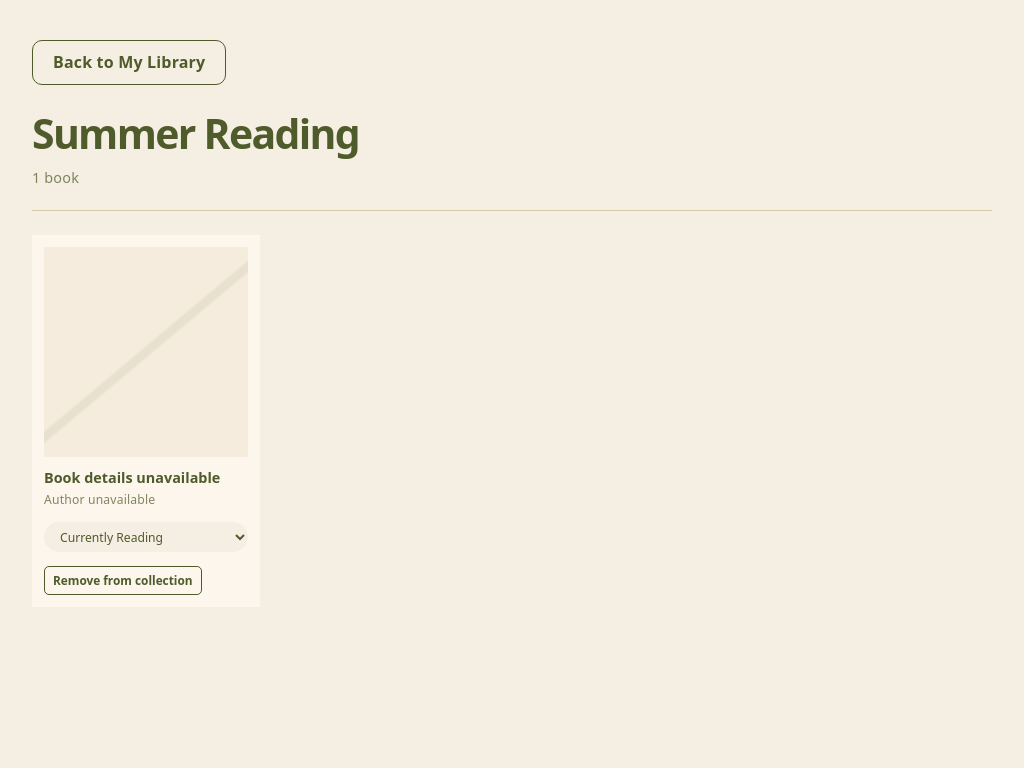
Scenario: CollectionDetailsPage › keeps fallback cards removable when metadata and ratings fail
Expected: the button "Book details unavailable" is shown, [44,468,220,487]
Click the button with aria-label "Remove Book details unavailable from collection".
click(123, 581)  # box [44,566,202,596]
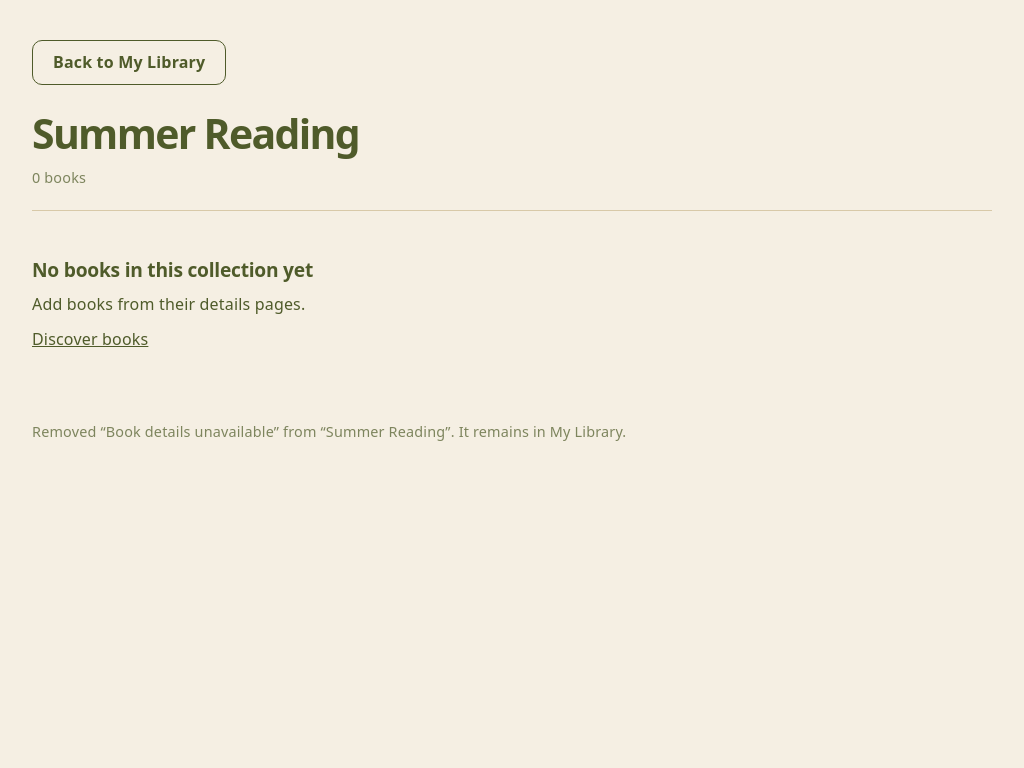
Result: the heading "No books in this collection yet" is shown at [32,256,313,282]
